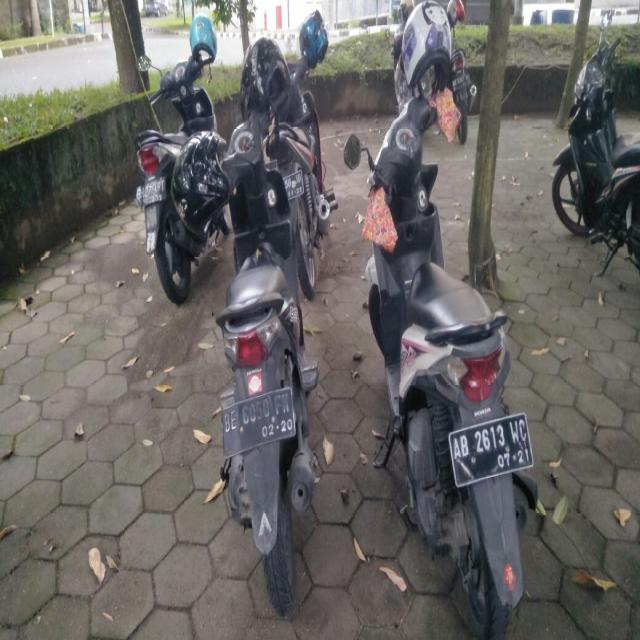plate: (450, 412, 532, 488), (221, 388, 297, 458), (134, 176, 166, 206)
